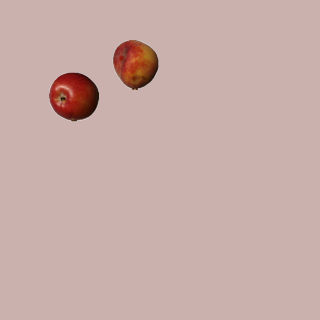Apple Braeburn: (48, 71, 98, 121)
Peach: (110, 39, 160, 89)
